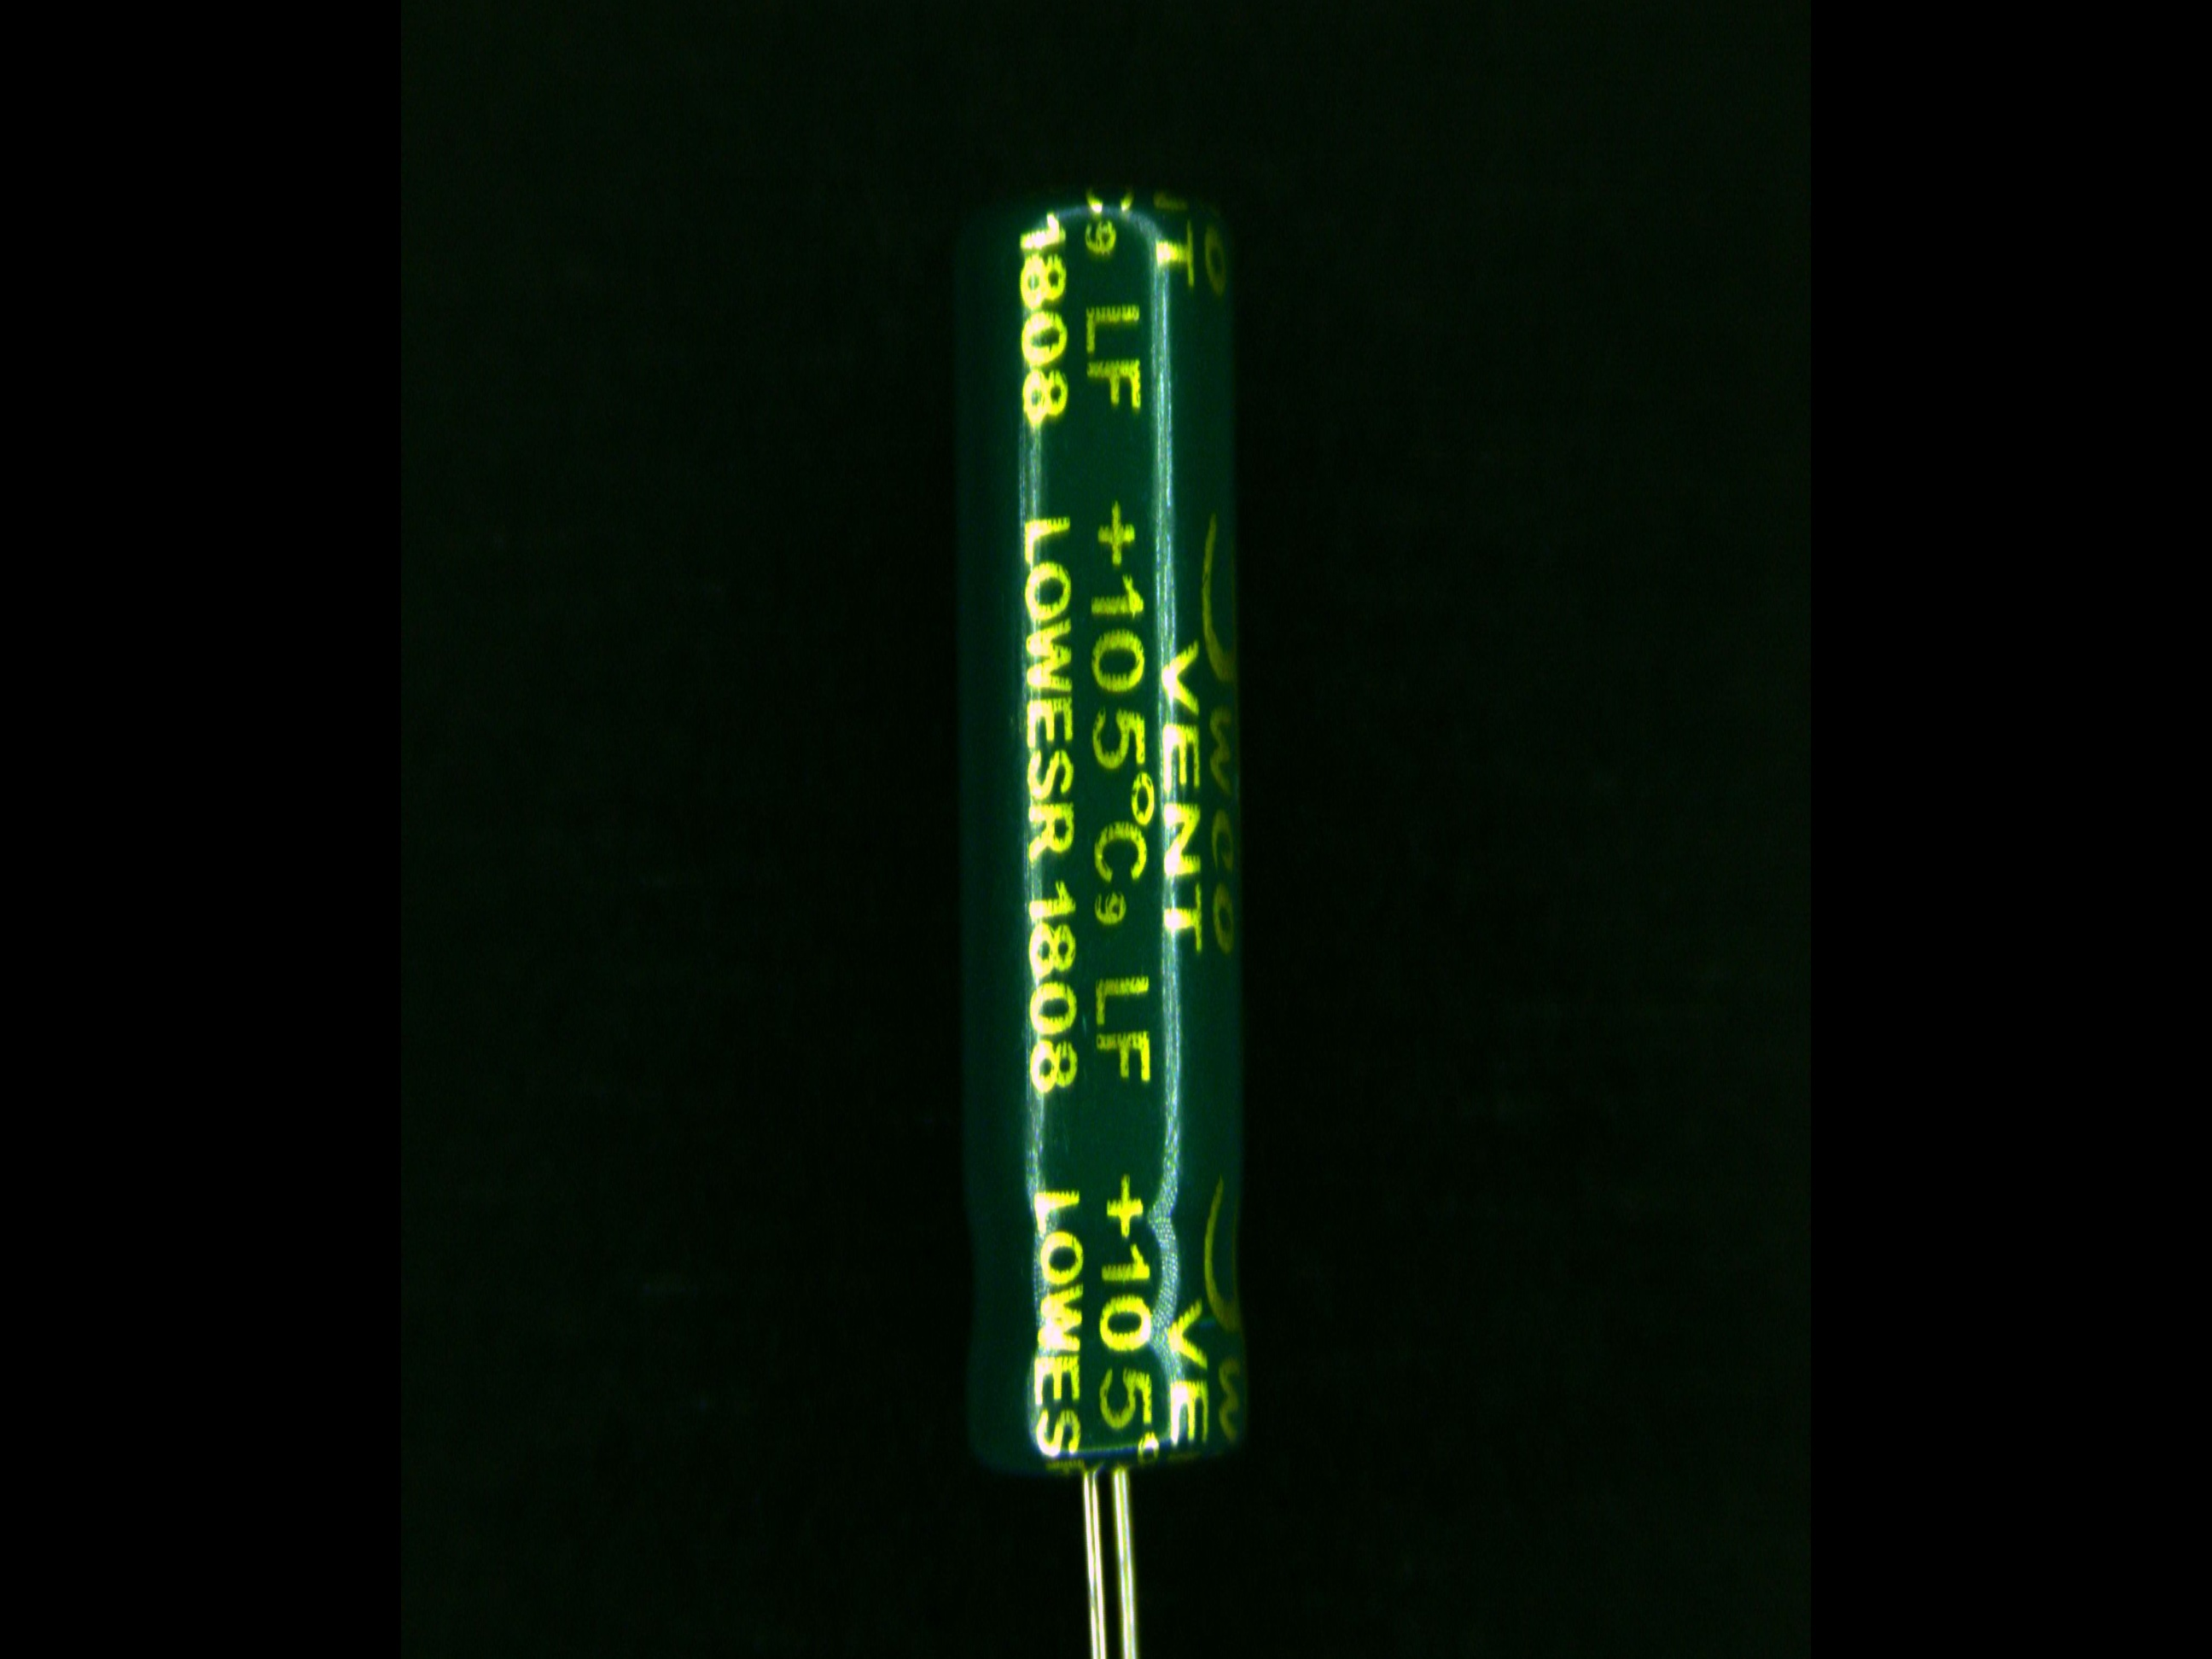c1: (953, 197, 1256, 1600)
